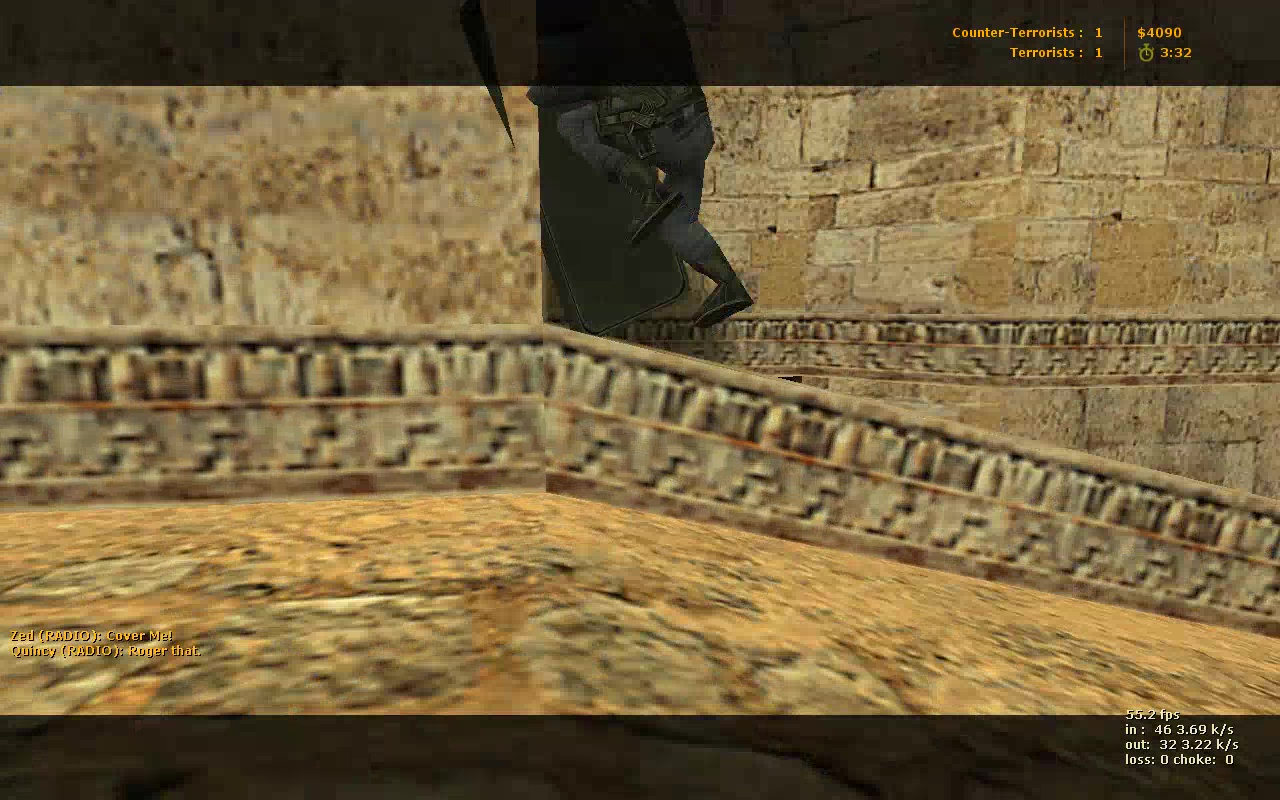ct: (528, 4, 750, 339)
